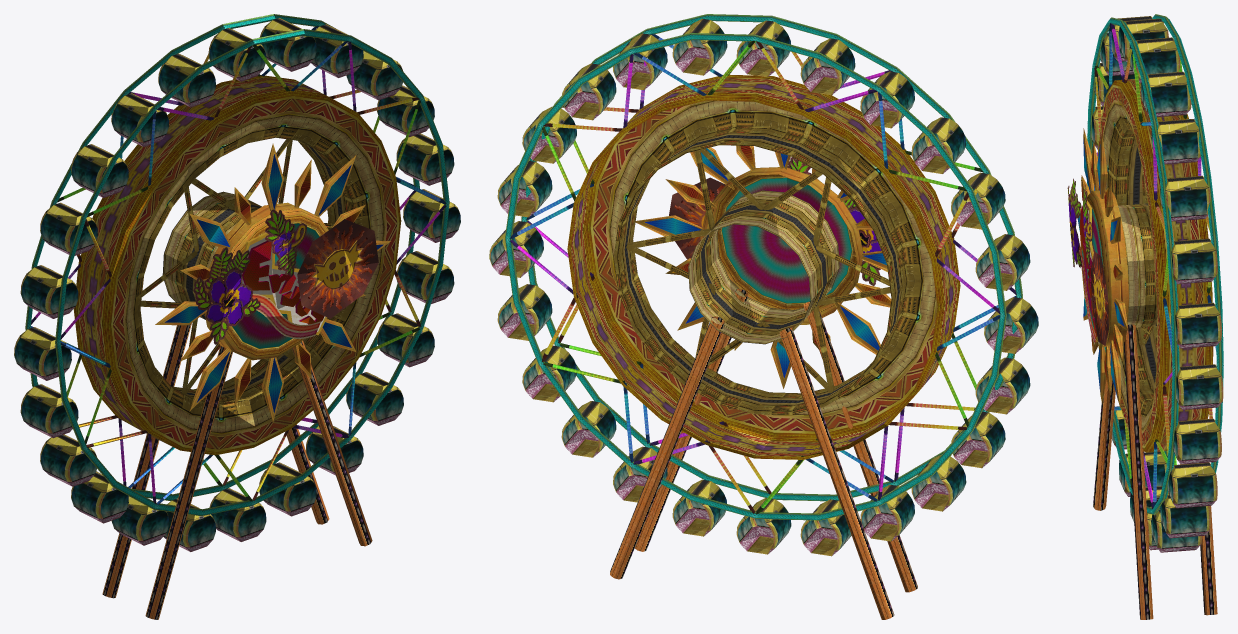
Rendered from stg110_MotWheel_03.obj.
3 renders of one model, left to right at view 1: azimuth 30°, elevation 25°; view 2: azimuth 150°, elevation 25°; view 3: azimuth 270°, elevation 25°, orthographic. The views are drawn at different scales.
Parts seen in each view (by area): view 1: polygon16, polygon13, polygon15, polygon7, polygon9, polygon14, polygon1, polygon5, polygon8, polygon12, polygon4, polygon10 (+49 smaller); view 2: polygon16, polygon13, polygon15, polygon7, polygon14, polygon8, polygon9, polygon10, polygon12, polygon5, polygon1, polygon81 (+23 smaller); view 3: polygon16, polygon15, polygon7, polygon9, polygon13, polygon8, polygon14, polygon1, polygon26, polygon29, polygon32, polygon35 (+32 smaller).
Boxes of the visible parts, x1,y1,x2,y2 form: polygon16: [73, 75, 401, 455]; polygon13: [126, 114, 384, 433]; polygon15: [25, 14, 449, 516]; polygon7: [102, 323, 372, 619]; polygon9: [155, 143, 390, 422]; polygon14: [31, 26, 446, 504]; polygon1: [193, 209, 306, 344]; polygon5: [297, 219, 378, 318]; polygon8: [162, 191, 261, 319]; polygon12: [164, 154, 383, 412]; polygon4: [242, 240, 324, 324]; polygon10: [232, 223, 319, 348]; polygon16: [567, 74, 960, 459]; polygon13: [609, 100, 935, 415]; polygon15: [505, 14, 1022, 520]; polygon7: [610, 288, 917, 619]; polygon14: [510, 34, 1016, 514]; polygon8: [688, 190, 839, 344]; polygon9: [635, 145, 891, 388]; polygon10: [722, 178, 851, 303]; polygon12: [645, 148, 886, 377]; polygon5: [669, 177, 725, 259]; polygon1: [787, 157, 881, 286]; polygon81: [911, 455, 962, 510]; polygon16: [1097, 79, 1213, 452]; polygon15: [1087, 14, 1223, 514]; polygon7: [1093, 324, 1217, 619]; polygon9: [1080, 128, 1128, 407]; polygon13: [1103, 103, 1157, 429]; polygon8: [1118, 203, 1156, 327]; polygon14: [1094, 23, 1216, 509]; polygon1: [1067, 178, 1092, 267]; polygon26: [1160, 502, 1206, 534]; polygon29: [1167, 473, 1213, 504]; polygon32: [1173, 430, 1217, 460]; polygon35: [1176, 377, 1219, 405].
Bounding box in the file's own units: 802 × 870 × 235.
